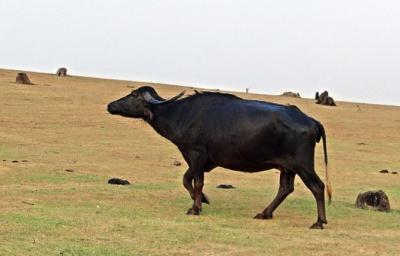buffalo: (107, 86, 330, 228)
